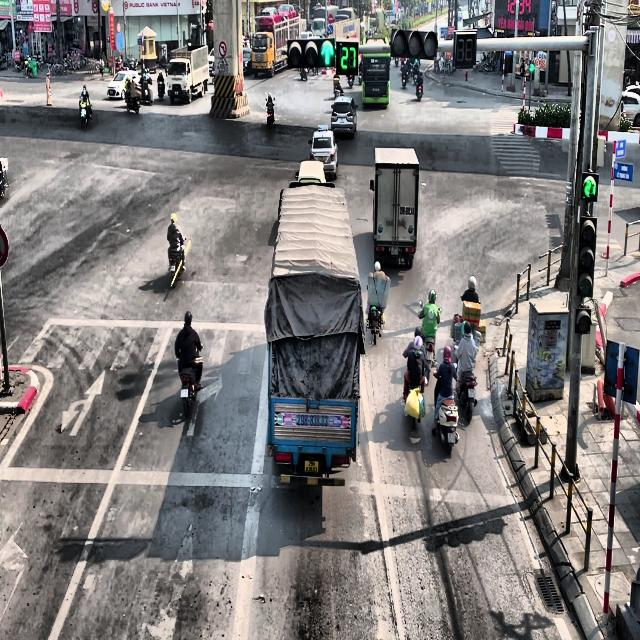lisence_plate: (275, 410, 351, 429), (303, 458, 320, 474), (401, 201, 414, 215), (180, 386, 189, 399), (391, 246, 399, 256), (340, 116, 346, 123), (320, 156, 326, 162), (373, 88, 381, 91), (375, 99, 379, 102)
